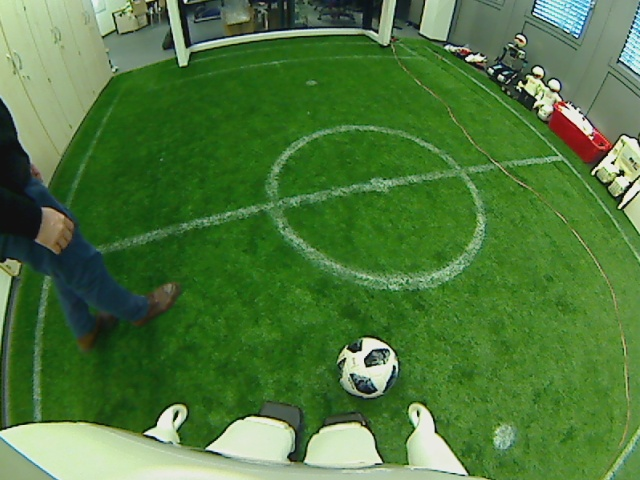ball: (334, 336, 399, 400)
